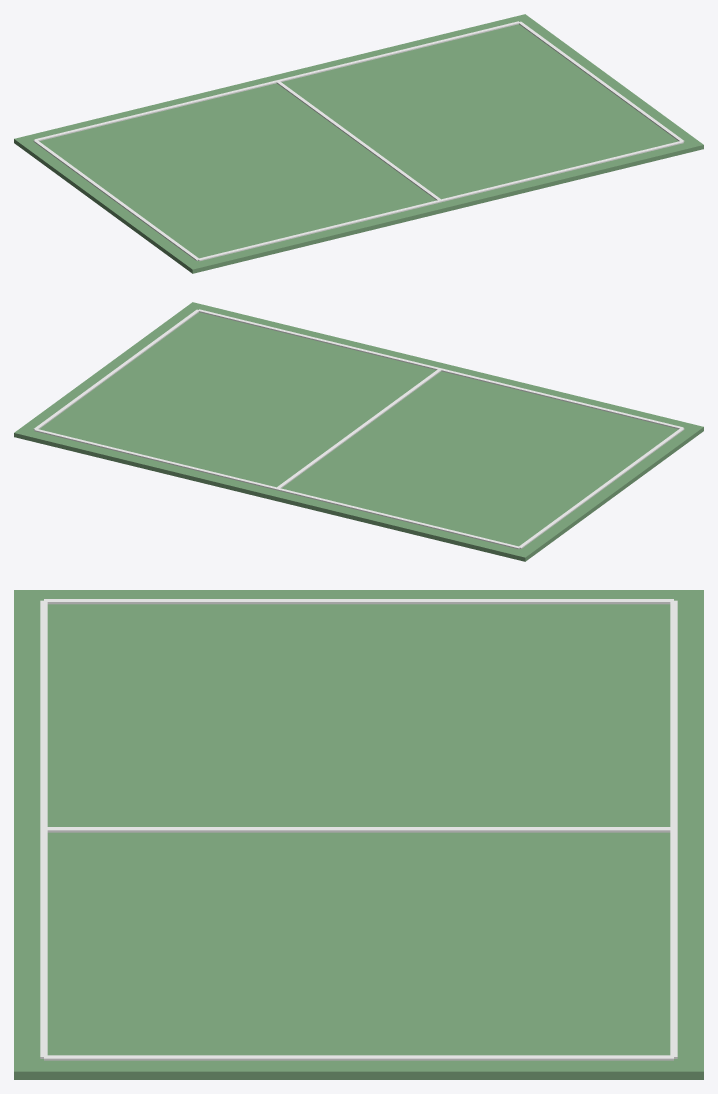
3 views of the same model, one above another, from view 1: azimuth 30°, elevation 25°; view 2: azimuth 150°, elevation 25°; view 3: azimuth 270°, elevation 25° (orthographic). The views are drawn at different scales.
Visible parts, largest first — view 1: Court surface, Sideline, Sideline.001, Line, Line.002, Line.001; view 2: Court surface, Sideline.001, Sideline, Line, Line.002, Line.001; view 3: Court surface, Line.002, Line, Line.001, Sideline, Sideline.001.
Part boxes in pixels (x1=…): Court surface: x1=14, y1=14, x2=703, y2=273; Sideline: x1=197, y1=141, x2=683, y2=261; Sideline.001: x1=34, y1=21, x2=519, y2=141; Line: x1=33, y1=140, x2=199, y2=260; Line.002: x1=518, y1=21, x2=684, y2=141; Line.001: x1=276, y1=81, x2=440, y2=200; Court surface: x1=14, y1=302, x2=703, y2=561; Sideline.001: x1=34, y1=429, x2=520, y2=549; Sideline: x1=199, y1=309, x2=683, y2=429; Line: x1=518, y1=428, x2=684, y2=548; Line.002: x1=33, y1=309, x2=198, y2=429; Line.001: x1=276, y1=369, x2=441, y2=488; Court surface: x1=14, y1=590, x2=703, y2=1079; Line.002: x1=44, y1=1055, x2=673, y2=1060; Line: x1=44, y1=599, x2=673, y2=604; Line.001: x1=44, y1=827, x2=673, y2=832; Sideline: x1=40, y1=600, x2=47, y2=1058; Sideline.001: x1=670, y1=600, x2=677, y2=1058.
Bounding box in the file's own units: 3.8 × 0.038 × 2.3.
1 material, 1 textured.
